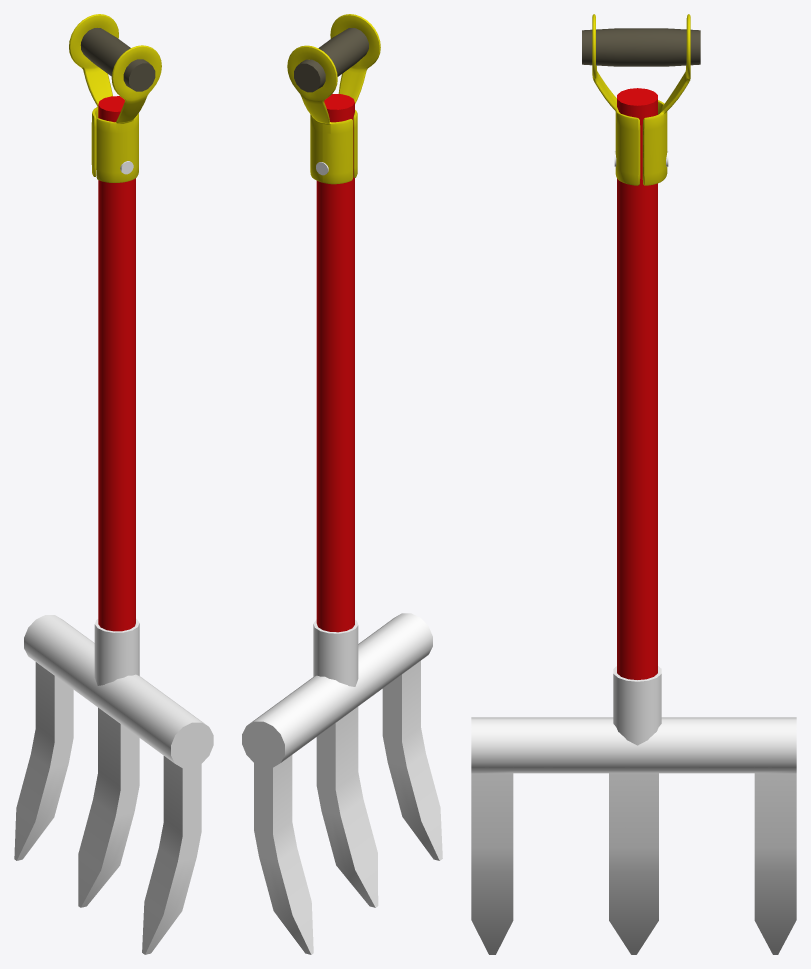
File: garpu tanaman besar.fbx
The picture shows the model from 3 angles, left to right: view 1: azimuth 30°, elevation 25°; view 2: azimuth 150°, elevation 25°; view 3: azimuth 270°, elevation 25°; orthographic projection. The views are drawn at different scales.
Visible parts, largest first — view 1: Cylinder.098, Cylinder.096, Circle.023, Cylinder.097, Cylinder.049; view 2: Cylinder.098, Cylinder.096, Circle.023, Cylinder.097, Cylinder.049; view 3: Cylinder.098, Cylinder.096, Circle.023, Cylinder.049, Cylinder.097.
Part boxes in pixels (x1,y1,x2,y2): Cylinder.098: (14,615,213,954); Cylinder.096: (98,96,135,631); Circle.023: (69,14,161,182); Cylinder.097: (94,618,139,685); Cylinder.049: (80,28,155,91); Cylinder.098: (242,613,442,954); Cylinder.096: (316,94,354,632); Circle.023: (287,14,380,184); Cylinder.097: (313,619,358,686); Cylinder.049: (294,28,368,92); Cylinder.098: (471,717,796,954); Cylinder.096: (617,88,657,679); Circle.023: (592,14,690,185); Cylinder.049: (582,28,700,66); Cylinder.097: (613,666,661,745).
Bounding box in the file's own units: 75.49 × 969 × 299.
